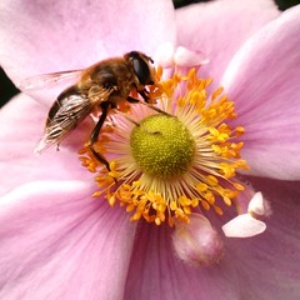bee: (11, 49, 188, 171)
